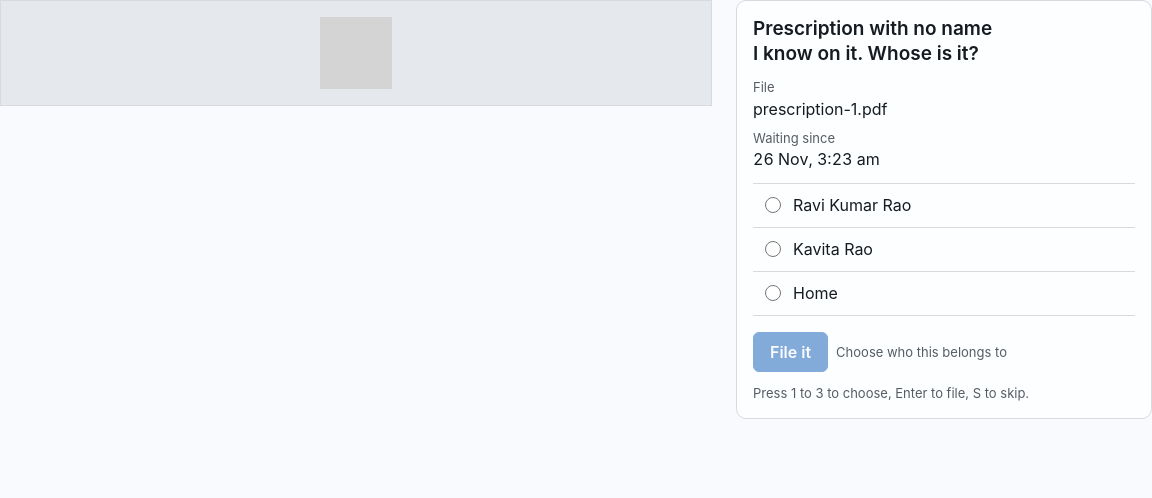
Test case: NeedsALook › a refused answer re-reads the list, so a stale file is not left on screen
Click the radio button labelled "Home". click: (773, 293)
box: [765,285,781,301]
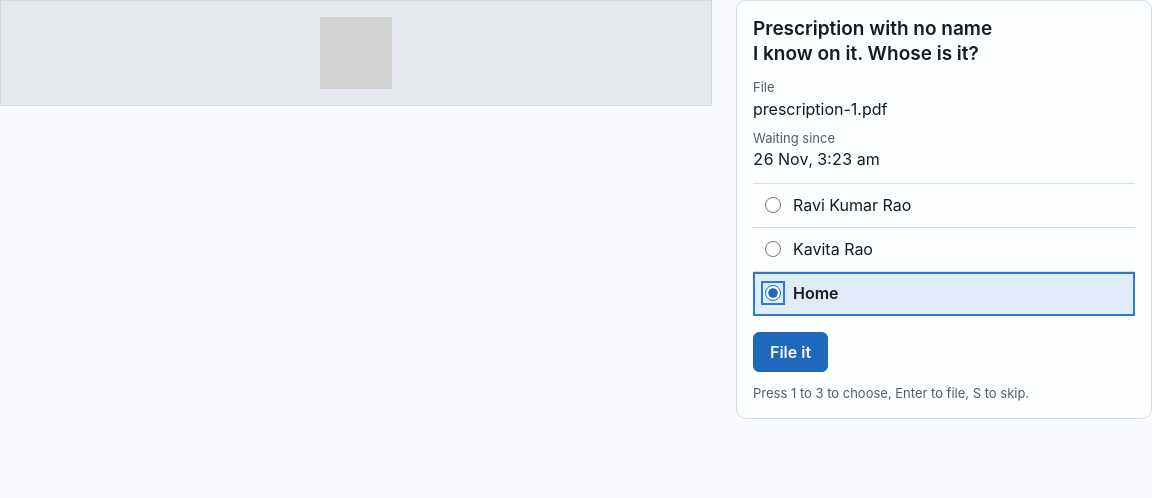
Click the button "File it". click: (791, 352)
box: [753,332,828,372]
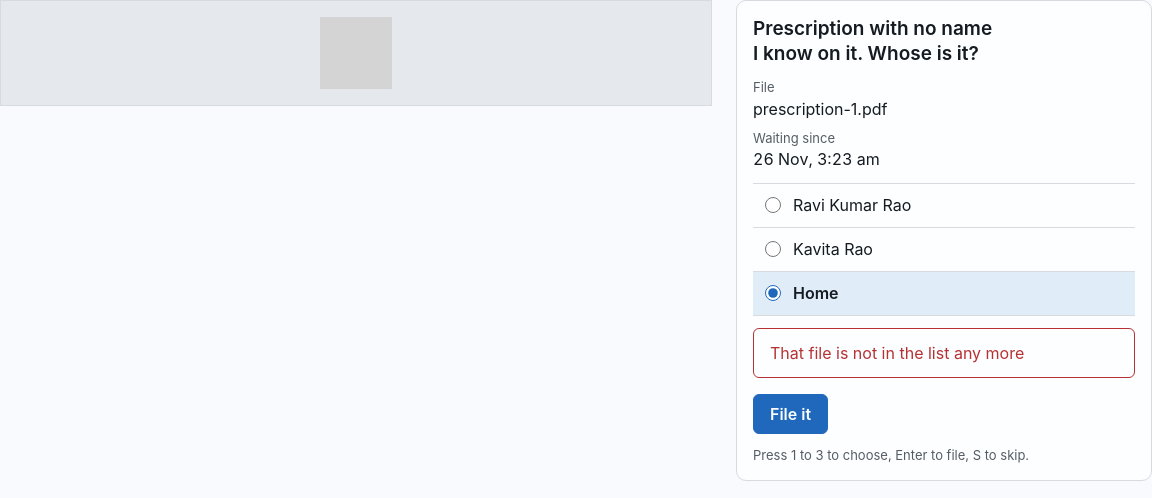
expect the message shows "not in the list any more": met, box [770,343,1024,363]
